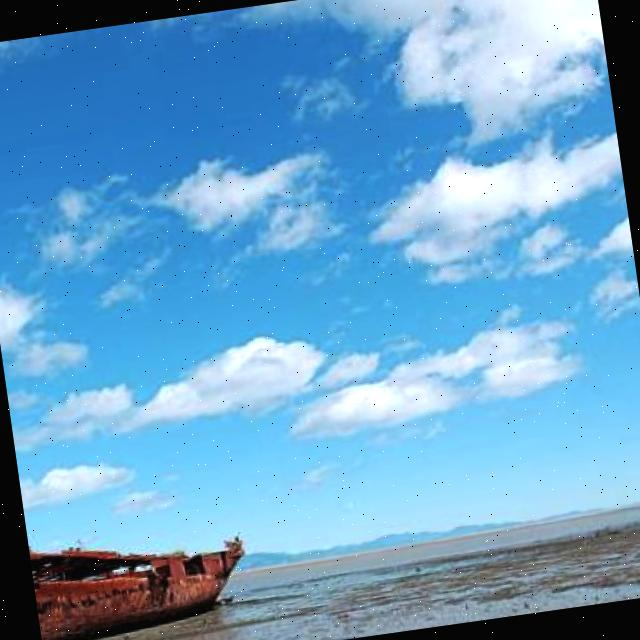Cs: (83, 1, 640, 474)
